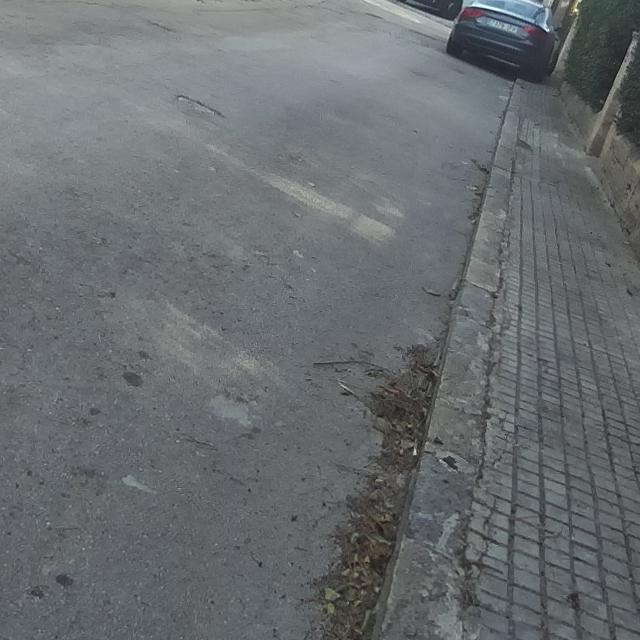calcada_quebrada: (465, 495, 507, 611), (485, 405, 519, 474)
